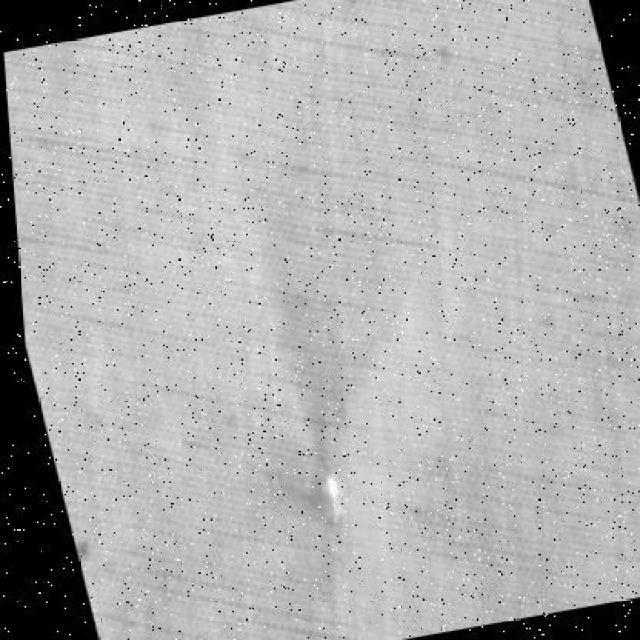seam: (250, 415, 403, 555)
